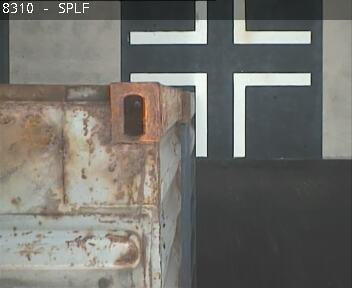groundmarker_1: (130, 73, 310, 156), (129, 1, 310, 44)
